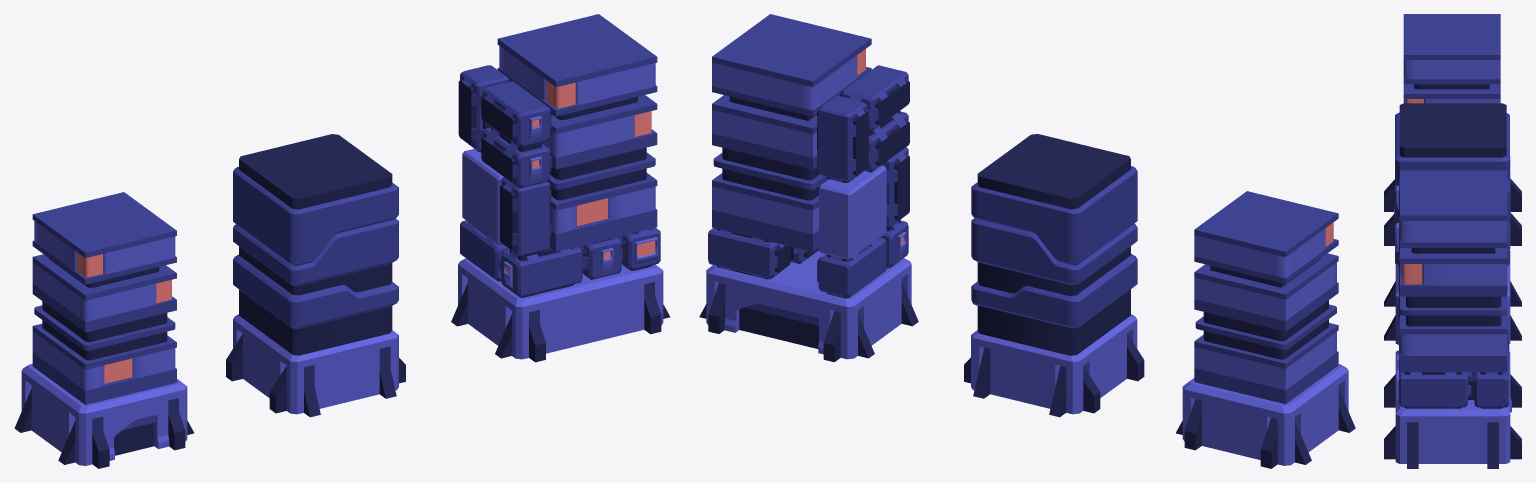
Rendered from Sci_fi_Buildings_V5_Romain.FBX.
The picture shows the model from 3 angles, left to right: view 1: azimuth 30°, elevation 25°; view 2: azimuth 150°, elevation 25°; view 3: azimuth 270°, elevation 25°; orthographic projection. The views are drawn at different scales.
Visible parts, largest first — view 1: Lama016, LAmaaaa001, Lama013; view 2: Lama016, LAmaaaa001, Lama013; view 3: Lama016, Lama013, LAmaaaa001.
Boxes of the visible parts, left/top/right/bottom form: Lama016: left=451, top=14, right=669, bottom=362; LAmaaaa001: left=226, top=134, right=405, bottom=417; Lama013: left=14, top=192, right=193, bottom=468; Lama016: left=699, top=14, right=918, bottom=362; LAmaaaa001: left=964, top=134, right=1144, bottom=417; Lama013: left=1176, top=191, right=1355, bottom=468; Lama016: left=1384, top=170, right=1521, bottom=468; Lama013: left=1384, top=14, right=1521, bottom=248; LAmaaaa001: left=1384, top=103, right=1521, bottom=344.
Bounding box in the file's own units: 5591 × 2359 × 1200.
